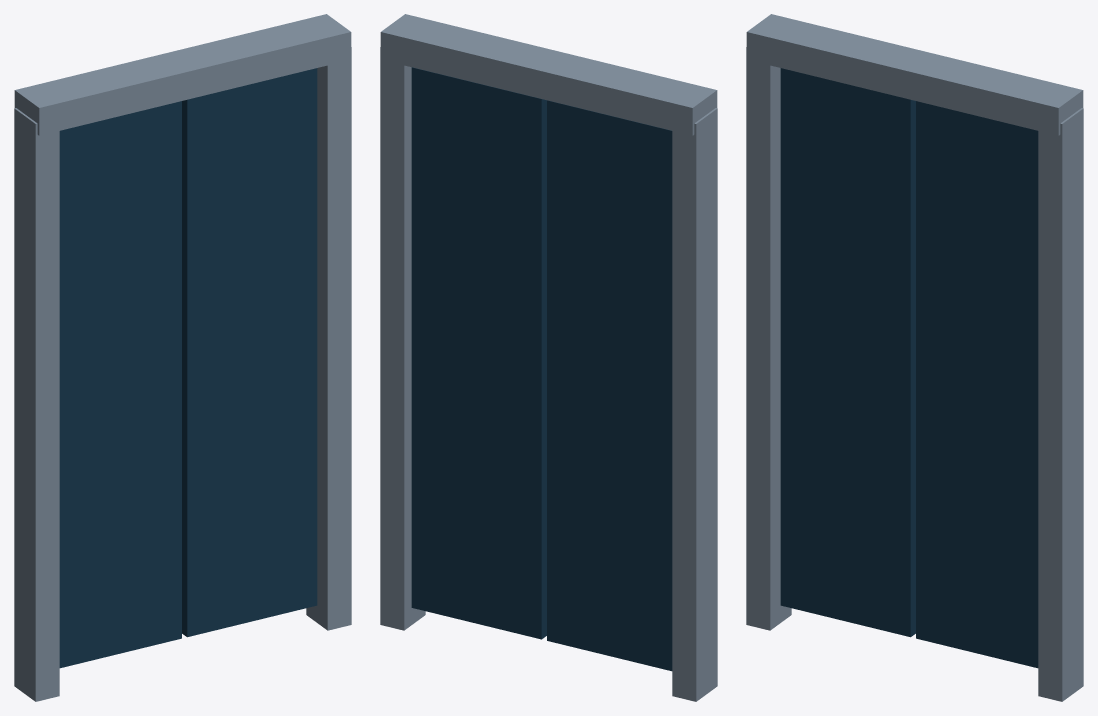
Rendered from 17_PS_Studio_AccessDoorAssembly.fbx.
3 views of the same model, side by side, from view 1: azimuth 30°, elevation 25°; view 2: azimuth 150°, elevation 25°; view 3: azimuth 330°, elevation 25° (orthographic).
Parts seen in each view (by area): view 1: PS_Studio_AccessDoorAssembly_Piece_0001, PS_Studio_AccessDoorAssembly; view 2: PS_Studio_AccessDoorAssembly_Piece_0001, PS_Studio_AccessDoorAssembly; view 3: PS_Studio_AccessDoorAssembly_Piece_0001, PS_Studio_AccessDoorAssembly.
Part boxes in pixels (box(x1,y1,x2,y2)): PS_Studio_AccessDoorAssembly_Piece_0001: box(59, 68, 317, 668); PS_Studio_AccessDoorAssembly: box(14, 14, 351, 701); PS_Studio_AccessDoorAssembly_Piece_0001: box(411, 67, 672, 671); PS_Studio_AccessDoorAssembly: box(380, 14, 717, 701); PS_Studio_AccessDoorAssembly_Piece_0001: box(780, 68, 1038, 668); PS_Studio_AccessDoorAssembly: box(746, 14, 1083, 701).
Bounding box in the file's own units: 238 × 428 × 32.
